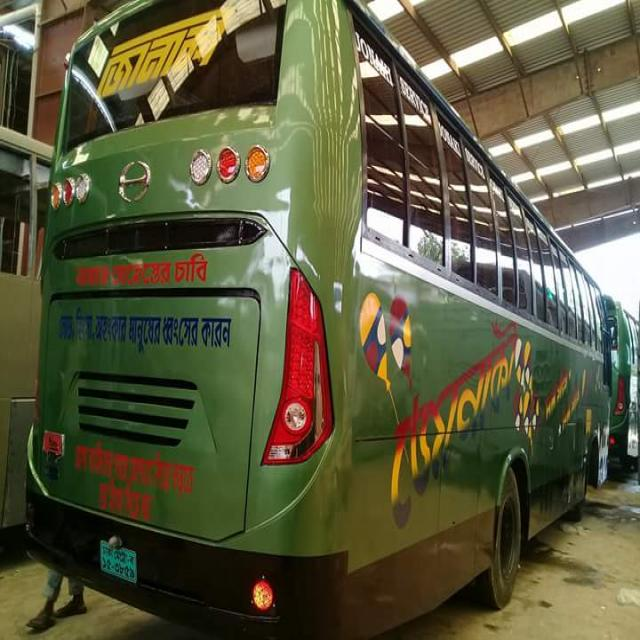bus: (26, 0, 614, 638)
